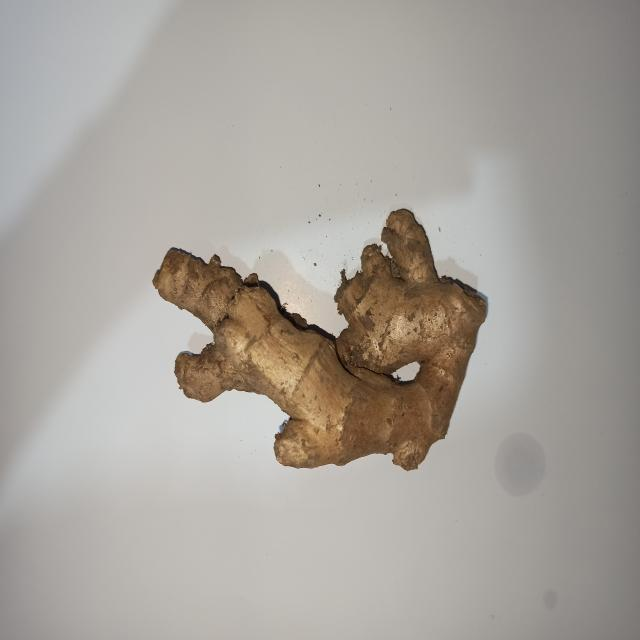ginger: (172, 219, 466, 466)
